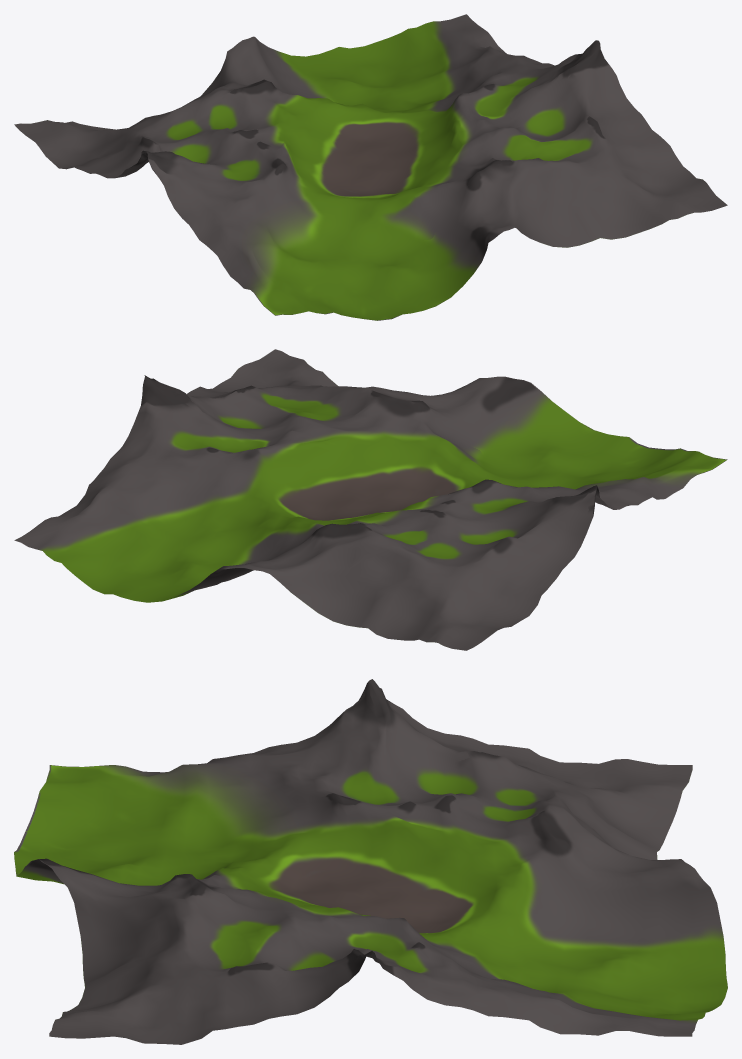
Rendered from height_map.glb.
3 renders of one model, top to bottom at view 1: azimuth 30°, elevation 25°; view 2: azimuth 150°, elevation 25°; view 3: azimuth 270°, elevation 25°, orthographic. The views are drawn at different scales.
Visible parts, largest first — view 1: Plane; view 2: Plane; view 3: Plane.
Part boxes in pixels (x1,y1,x2,y2): Plane: (14,14,727,320); Plane: (14,349,727,650); Plane: (14,679,727,1044).
Size of what is drawn, in the model's own units: 521 by 97.33 by 555.
Materials: 1 (1 with a texture image).
